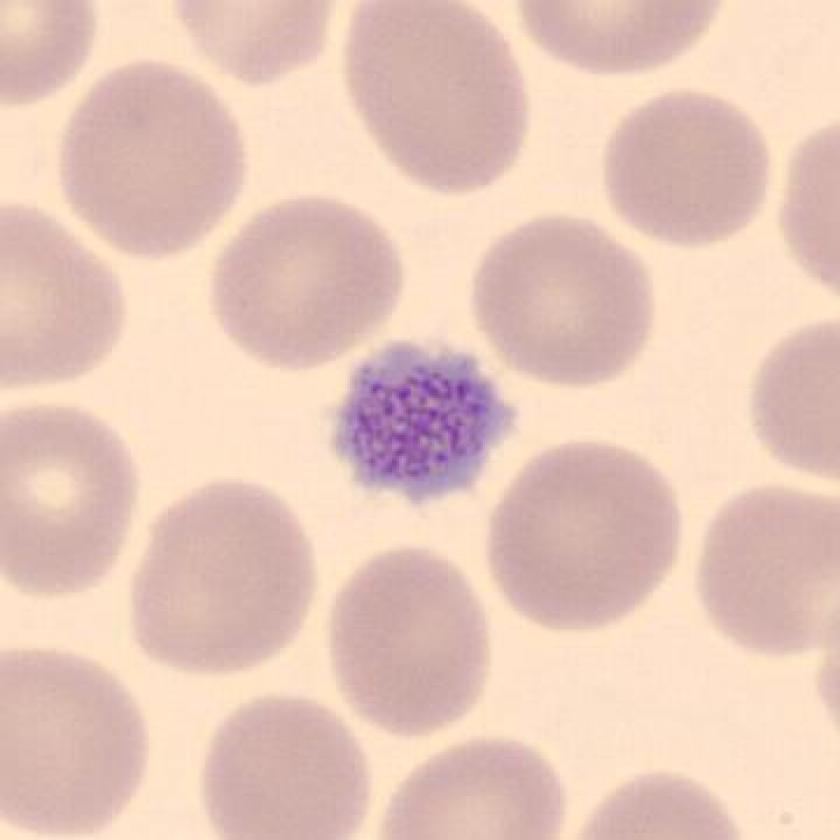platelets: (316, 325, 533, 519)
